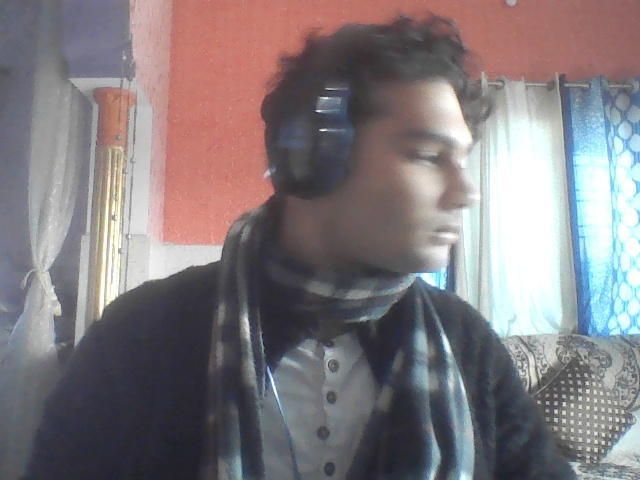real: (286, 0, 494, 295)
